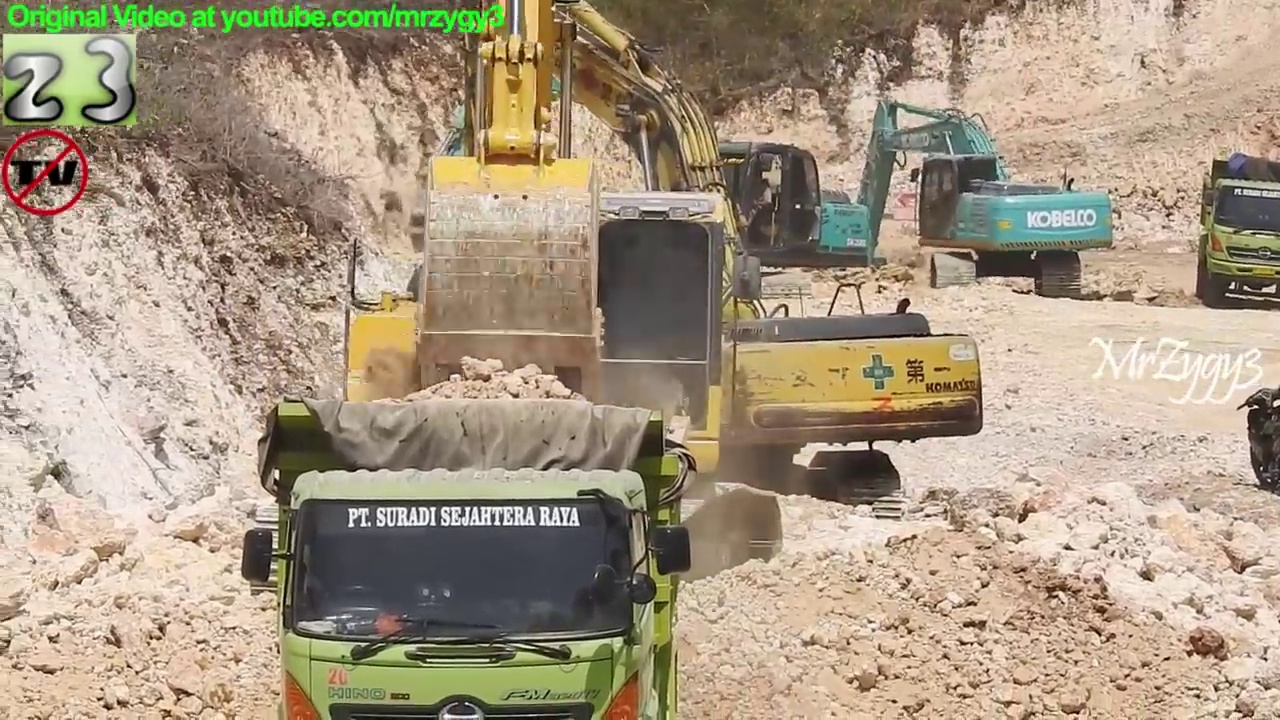excavator: (240, 1, 795, 613), (443, 1, 992, 538), (398, 23, 881, 310), (822, 88, 1123, 306)
truck: (237, 388, 702, 720), (1193, 152, 1280, 316)
